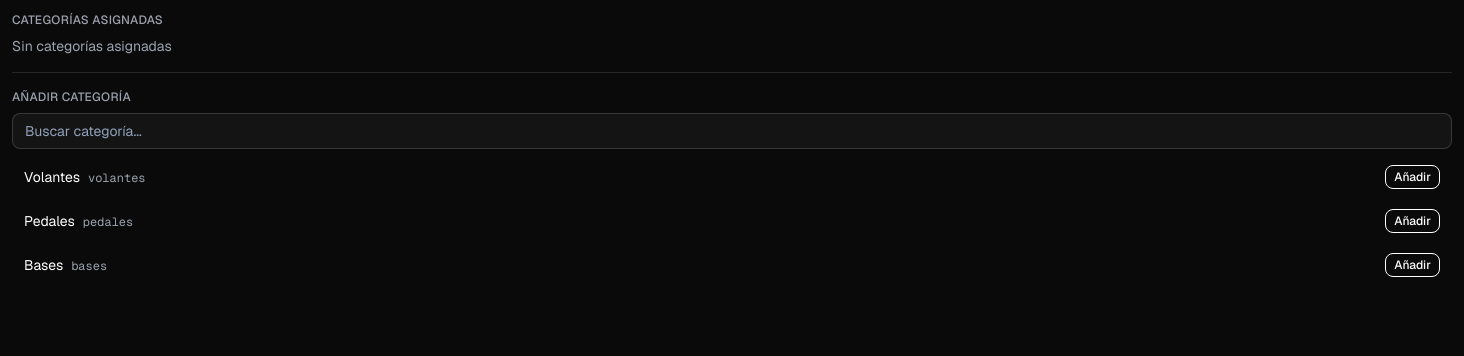
Test: CategoryAssignPanel › añadir categoría › muestra error si setCategories falla al añadir
Click the 1st button "Añadir". click: {"x": 1413, "y": 177}
box: top-left (1385, 165), bottom-right (1440, 189)
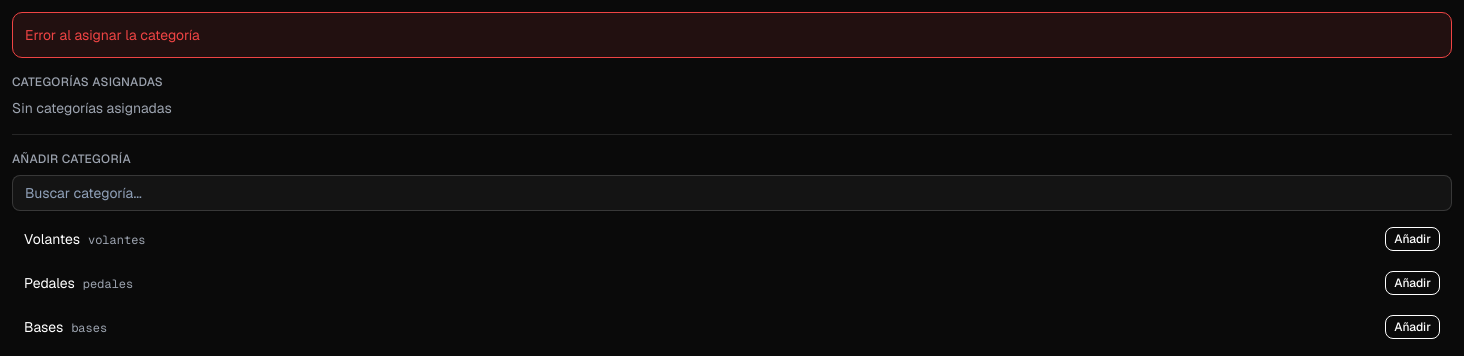
Now the text "Error al asignar la categoría" is shown, box top-left (12, 12), bottom-right (1452, 58)
